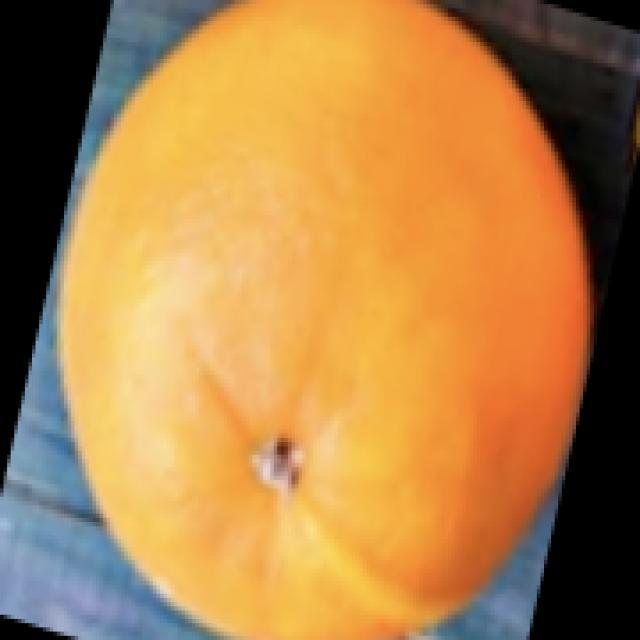Orange: (54, 0, 594, 639)
